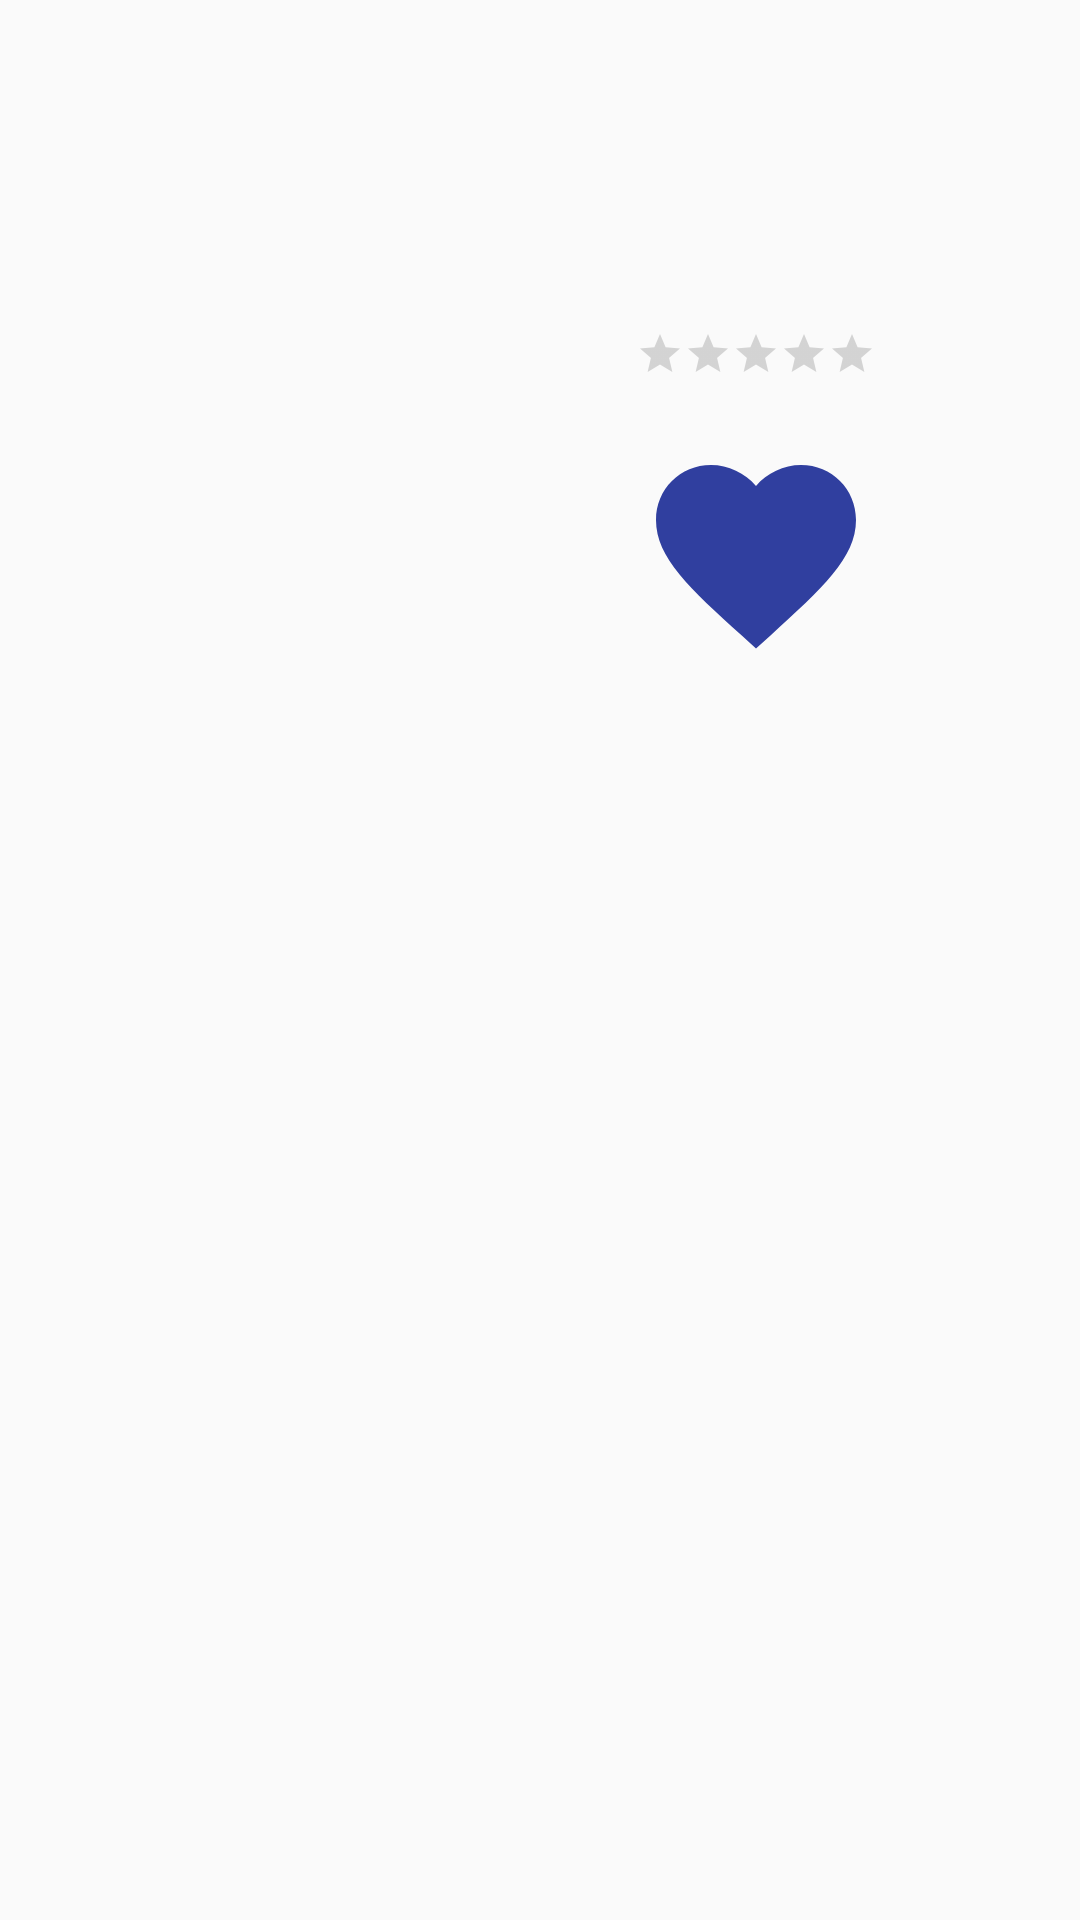

Point at icon controls on the screen. Image size 1080 × 1920, points as (x,y).
favorite: (756,557)
